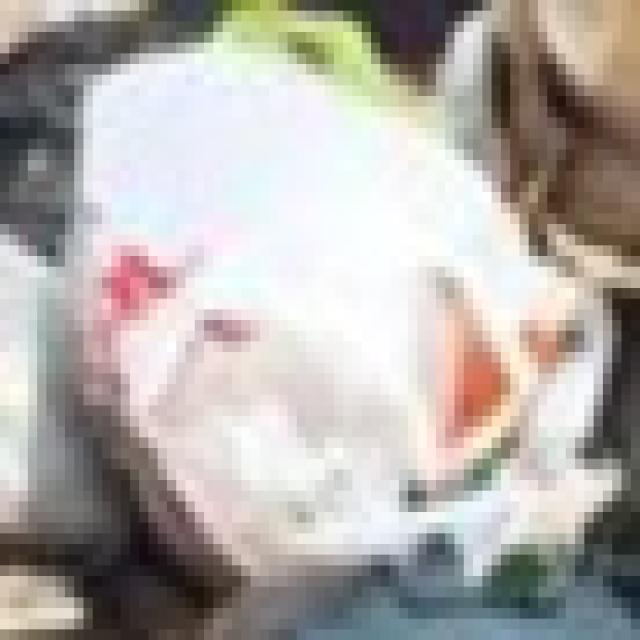plastic bag: (18, 0, 640, 629)
